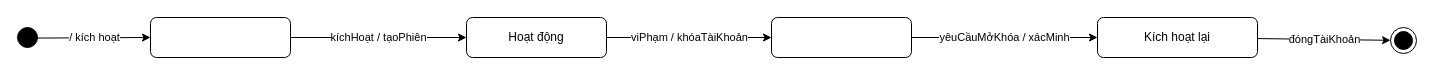
Some shapes in this 1434 by 75 pixel diagram are drawn without their labels. Here are the shapes that lost their labels. From the top down, the box of each, then its label:
(150, 16, 290, 58): Mới tạo
(770, 16, 912, 58): Bị khóa
